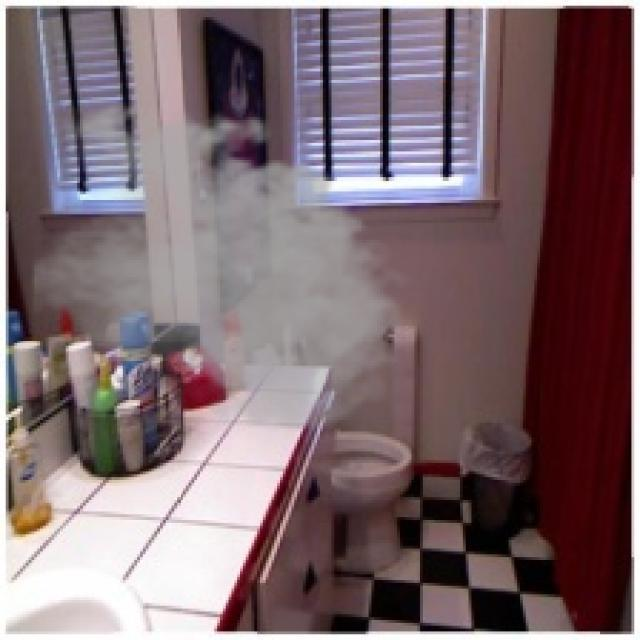Smoke: (29, 91, 418, 440)
